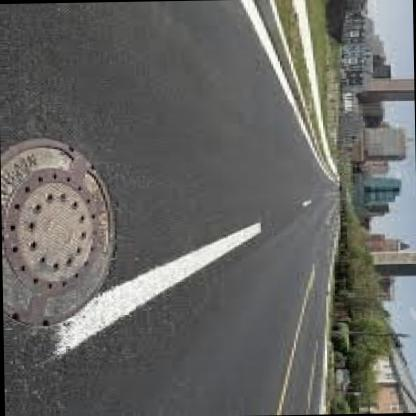manholes: (0, 127, 133, 339)
